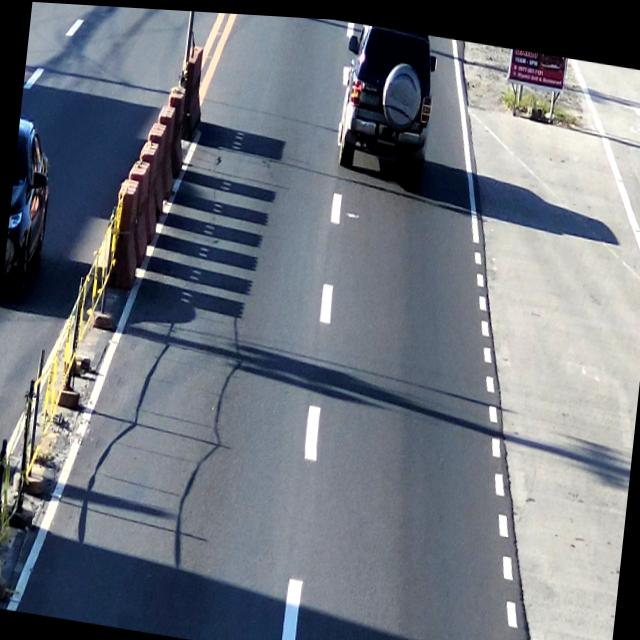Car: (334, 17, 444, 186)
